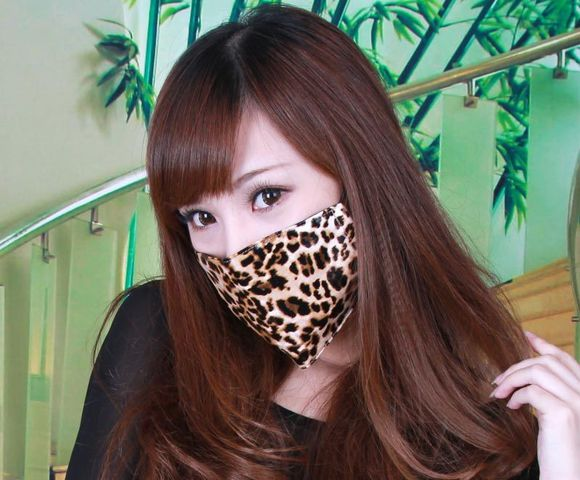face_mask: (184, 114, 336, 334)
